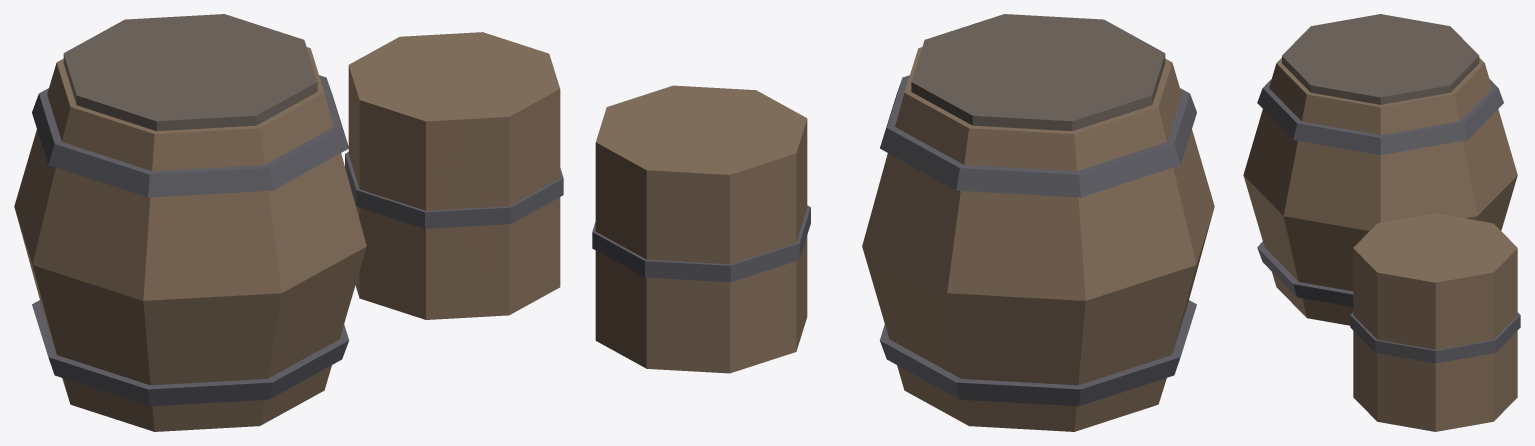
The model's file is barrel.glb.
3 renders of one model, left to right at view 1: azimuth 30°, elevation 25°; view 2: azimuth 150°, elevation 25°; view 3: azimuth 270°, elevation 25°, orthographic. The views are drawn at different scales.
Parts seen in each view (by area): view 1: barrel; view 2: barrel; view 3: barrel.
Part boxes in pixels (x1,y1,x2,y2): barrel: (14,14,563,431); barrel: (592,14,1214,431); barrel: (1243,14,1520,431).
Size of the model in its own units: 1.76 by 0.93 by 1.01.
